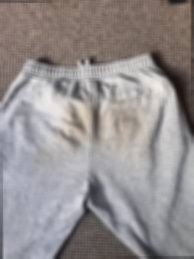earth: (67, 104, 86, 138), (119, 111, 129, 126)
